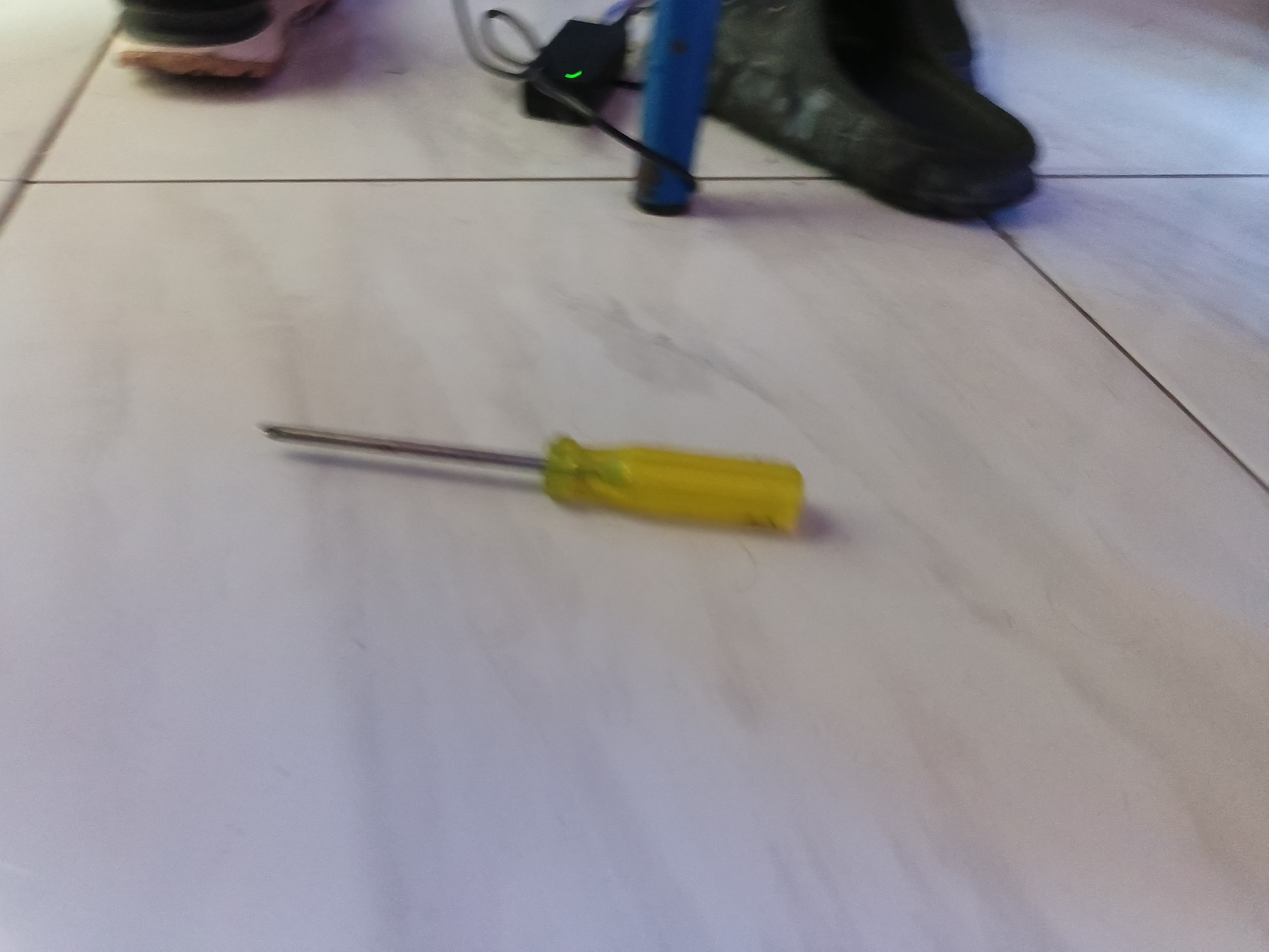Destornillador: (258, 423, 803, 531)
